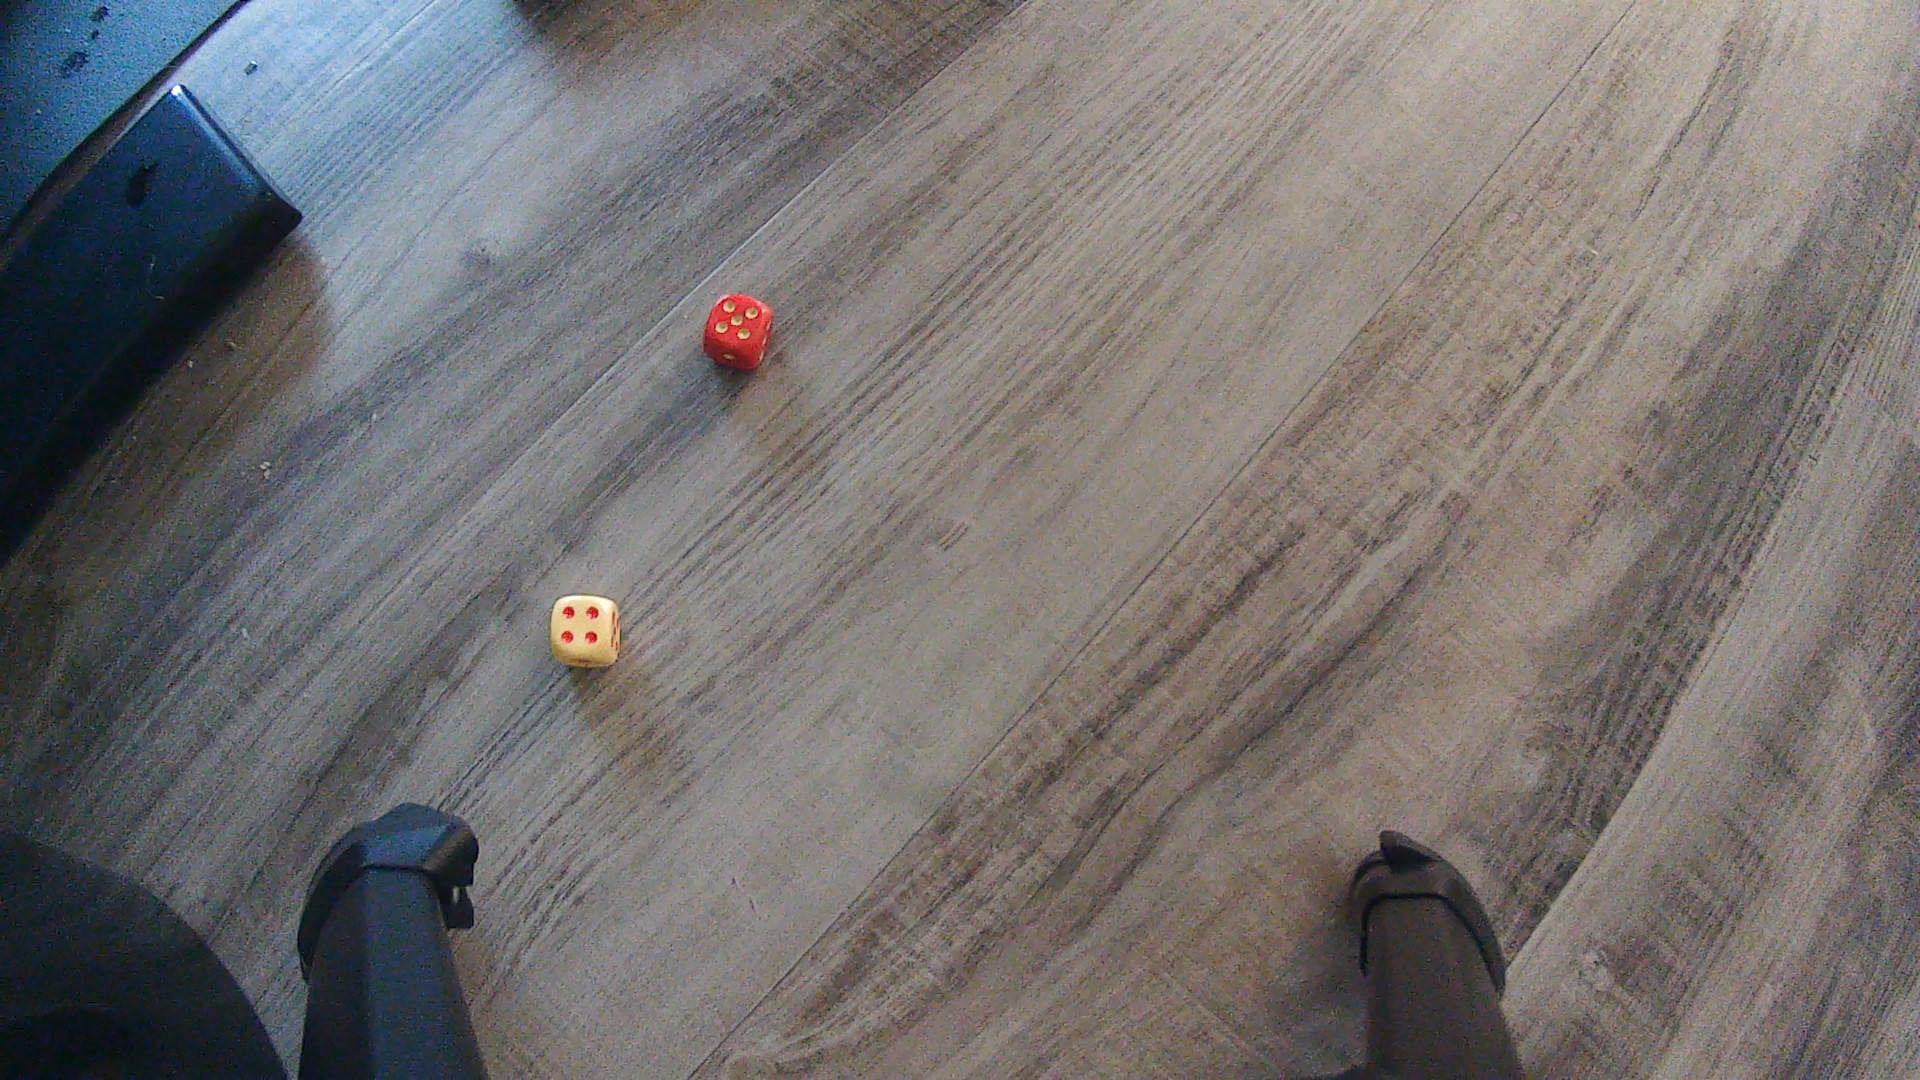die: (703, 293, 775, 372), (549, 592, 622, 669)
